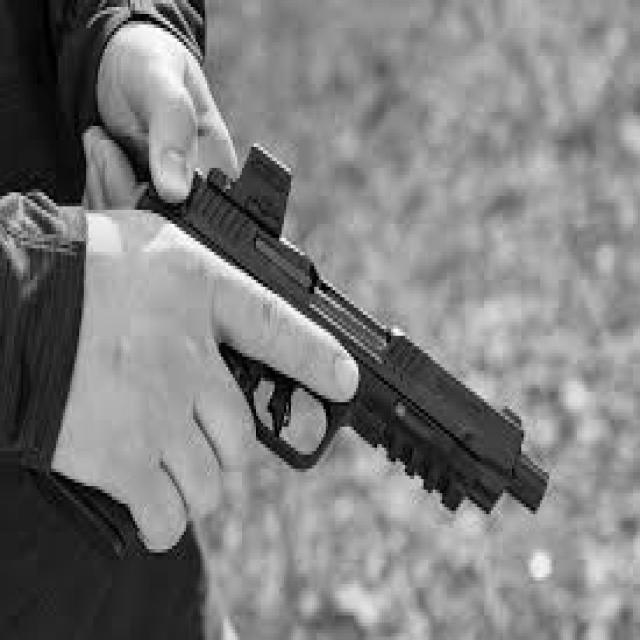gun: (32, 147, 550, 555)
